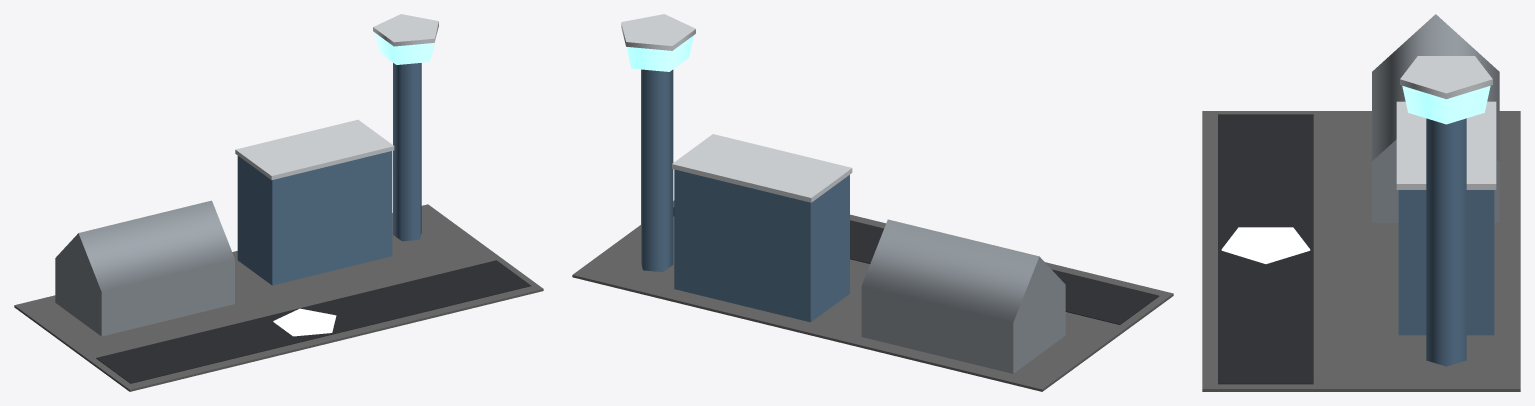
Rendered from bld_special_airport_a10_lod2.glb.
The picture shows the model from 3 angles, left to right: view 1: azimuth 30°, elevation 25°; view 2: azimuth 150°, elevation 25°; view 3: azimuth 270°, elevation 25°; orthographic projection. The views are drawn at different scales.
Parts seen in each view (by area): view 1: body; view 2: body; view 3: body.
Boxes of the visible parts, x1,y1,x2,y2 form: body: (14, 14, 543, 391); body: (572, 14, 1173, 391); body: (1202, 14, 1520, 391).
Bounding box in the file's own units: 31 × 14.95 × 15.
